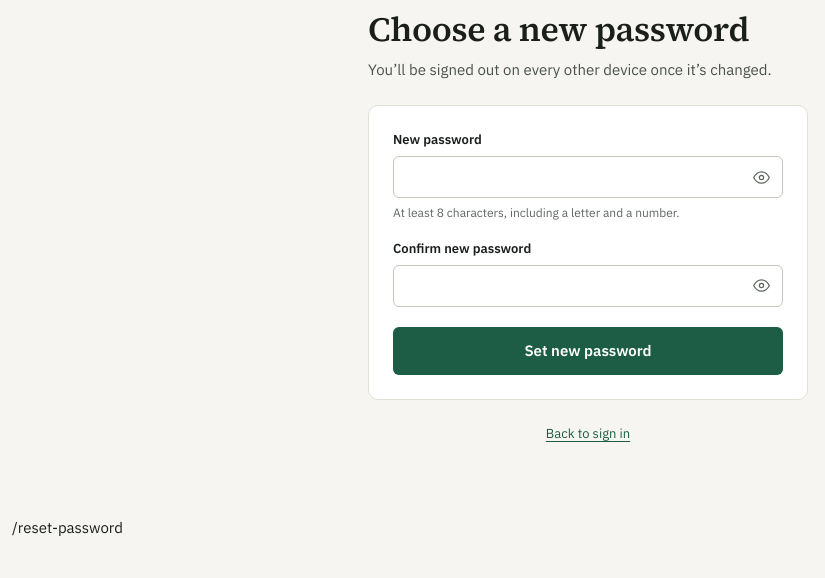
Reset password page (link) › enforces the password rules and matching confirmation
In the password field labelled "New password": (588, 177) [393,156,783,198], type "lettersonly"
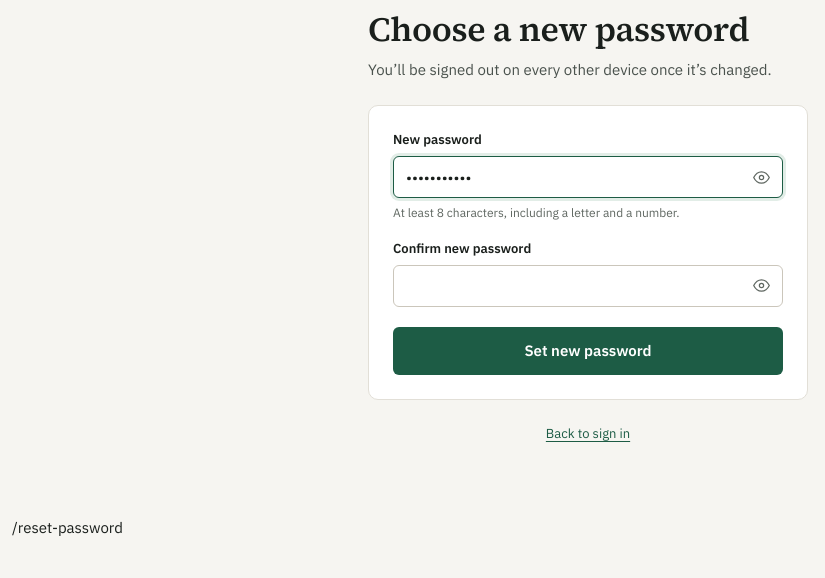
In the password field labelled "Confirm new password": (588, 286) [393,265,783,307], type "different1"
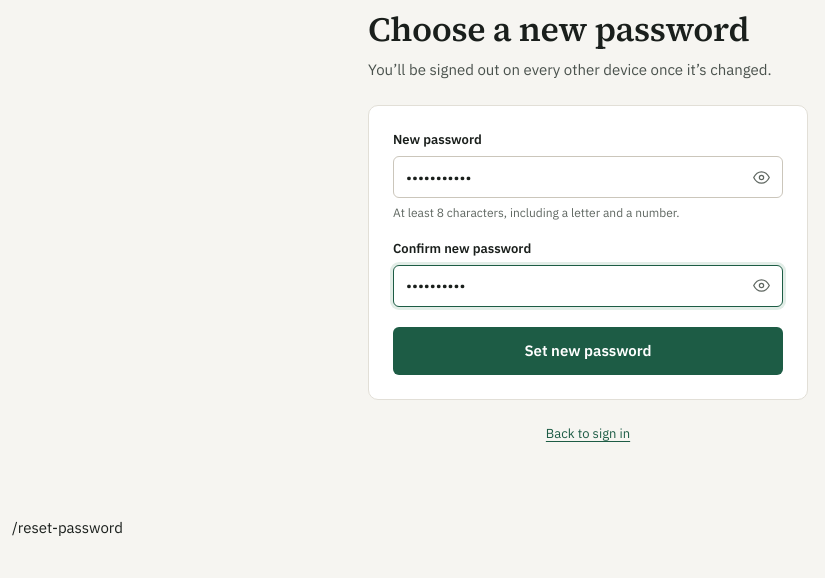
Click the button "Set new password": (588, 351) [393,327,783,375]
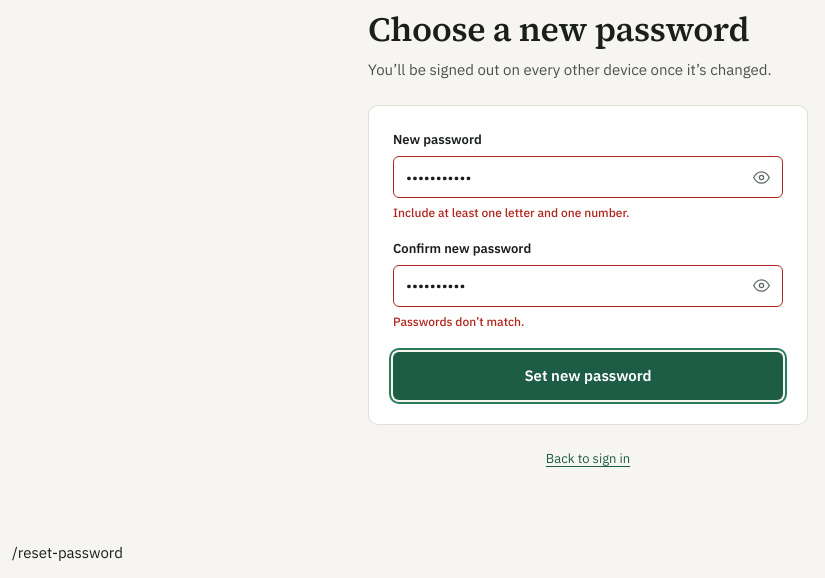
Now the text "Include at least one letter and one number." is shown, box [393,205,630,220]
Now the text "Passwords don’t match." is shown, box [393,314,524,329]
